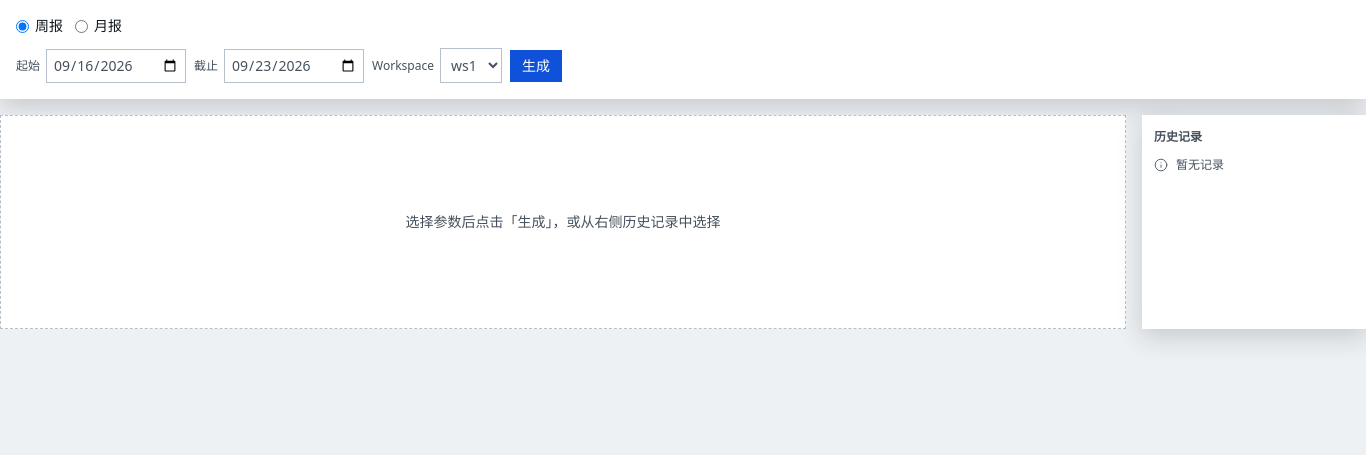
Test case: ReportView › labels a successful result with the workspace captured for that request
Click the button with test id "report-generate" at (536, 66), box x1=510 y1=50 x2=562 y2=82
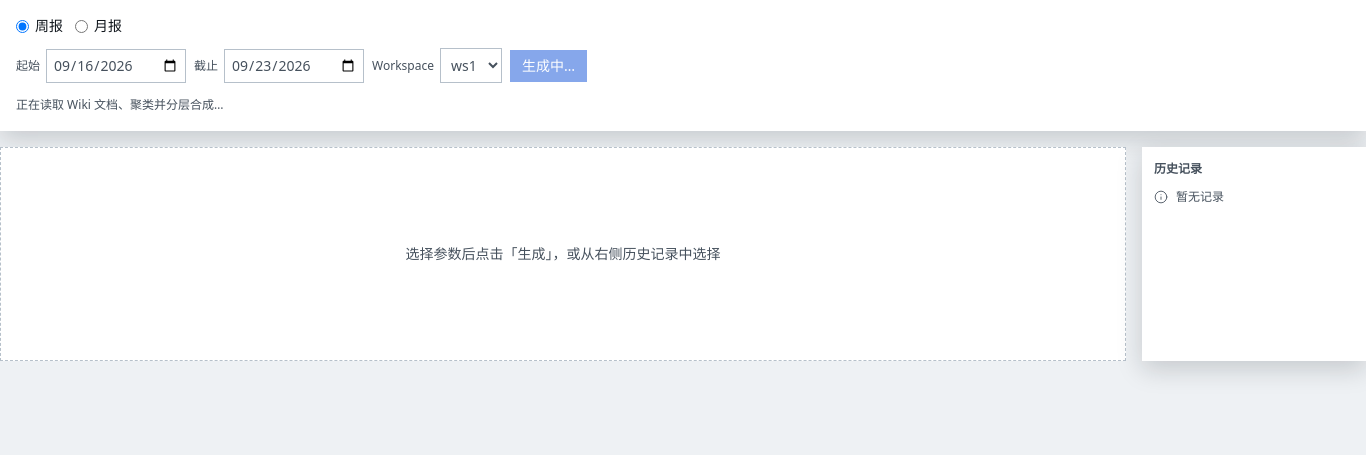
Select "全部" in the dropdown with test id "report-workspace" at (471, 66), box x1=440 y1=48 x2=502 y2=83
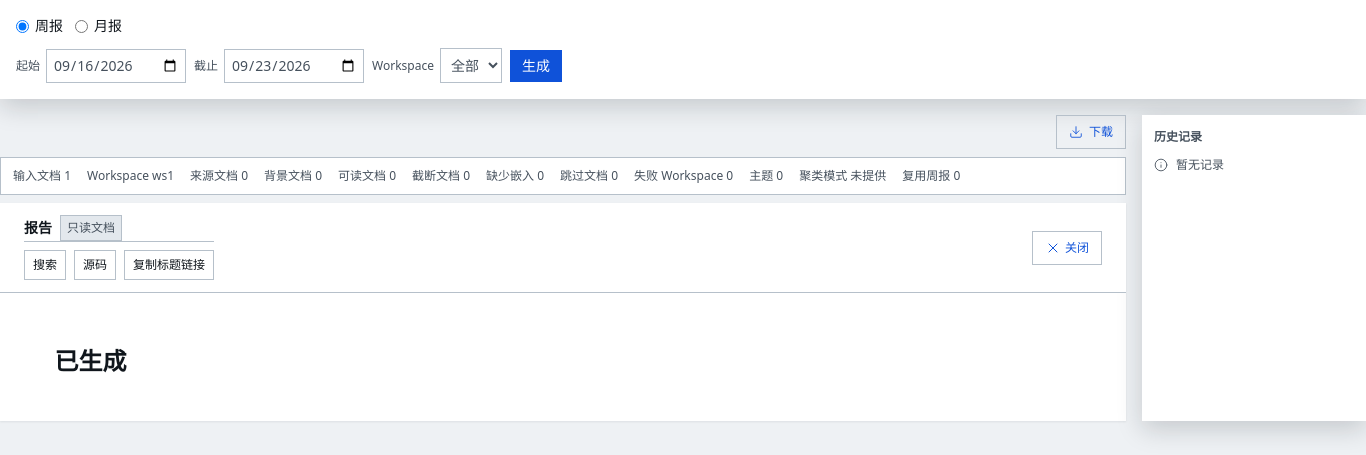
Now the element with test id "report-coverage" shows "Workspace ws1", box x1=0 y1=157 x2=1126 y2=195
